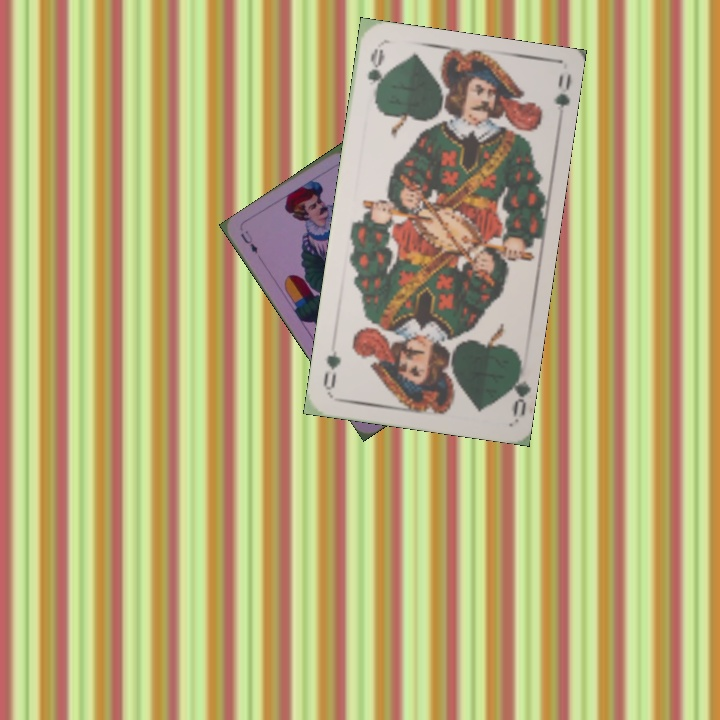EU: (236, 226, 260, 256)
GO: (501, 359, 530, 418), (363, 44, 387, 104)
